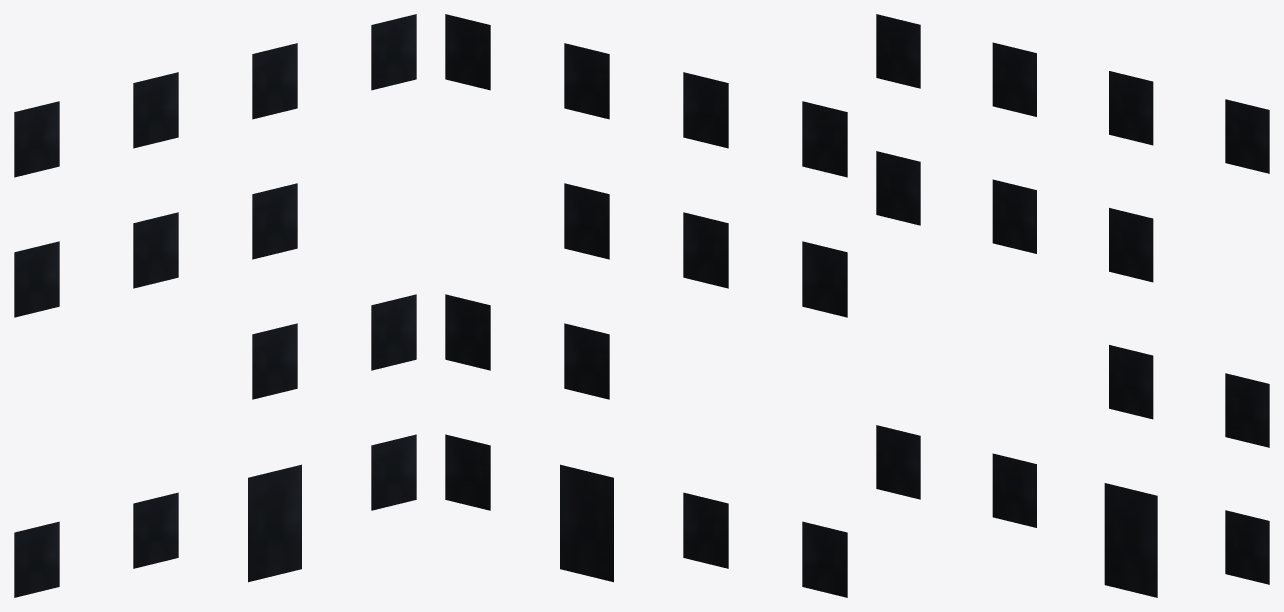
Rendered from Street_BlockL4_Glass.obj.
3 views of the same model, side by side, from view 1: azimuth 30°, elevation 25°; view 2: azimuth 150°, elevation 25°; view 3: azimuth 330°, elevation 25° (orthographic). The views are drawn at different scales.
Size of the model in its own units: 9.47 by 11.85 by 0.
Materials: 1 (1 with a texture image).
